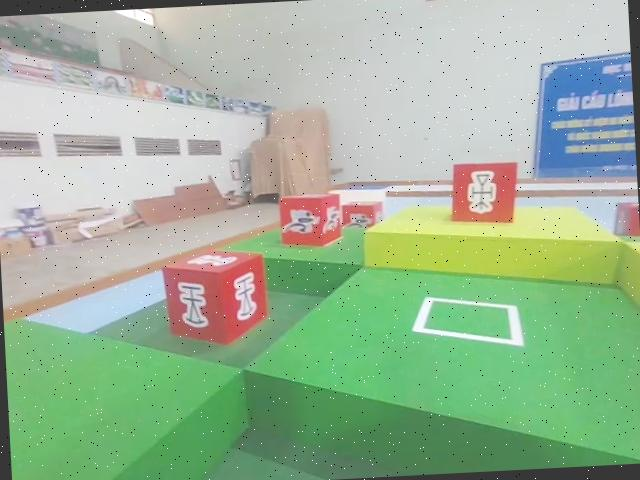R1: (279, 185, 345, 252), (341, 197, 387, 235)
R2 Real: (158, 243, 274, 352), (446, 155, 520, 231)
